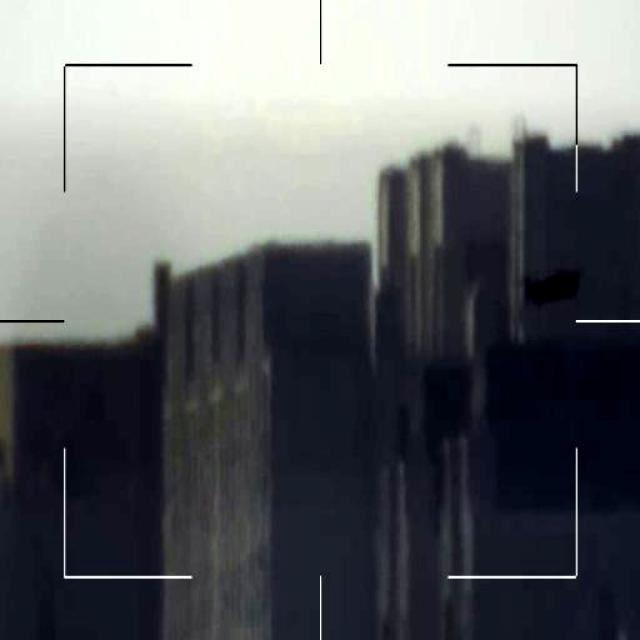bird: (526, 269, 579, 309)
